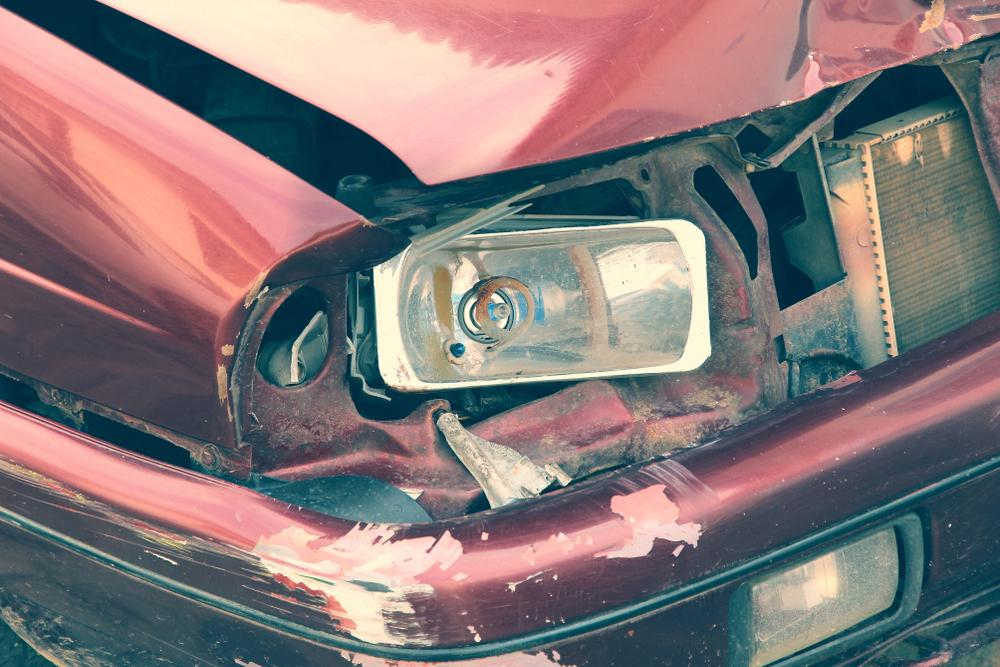dent: (772, 0, 1000, 101)
lamp broken: (250, 34, 1000, 510)
scratch: (0, 453, 475, 644), (584, 457, 730, 573)
